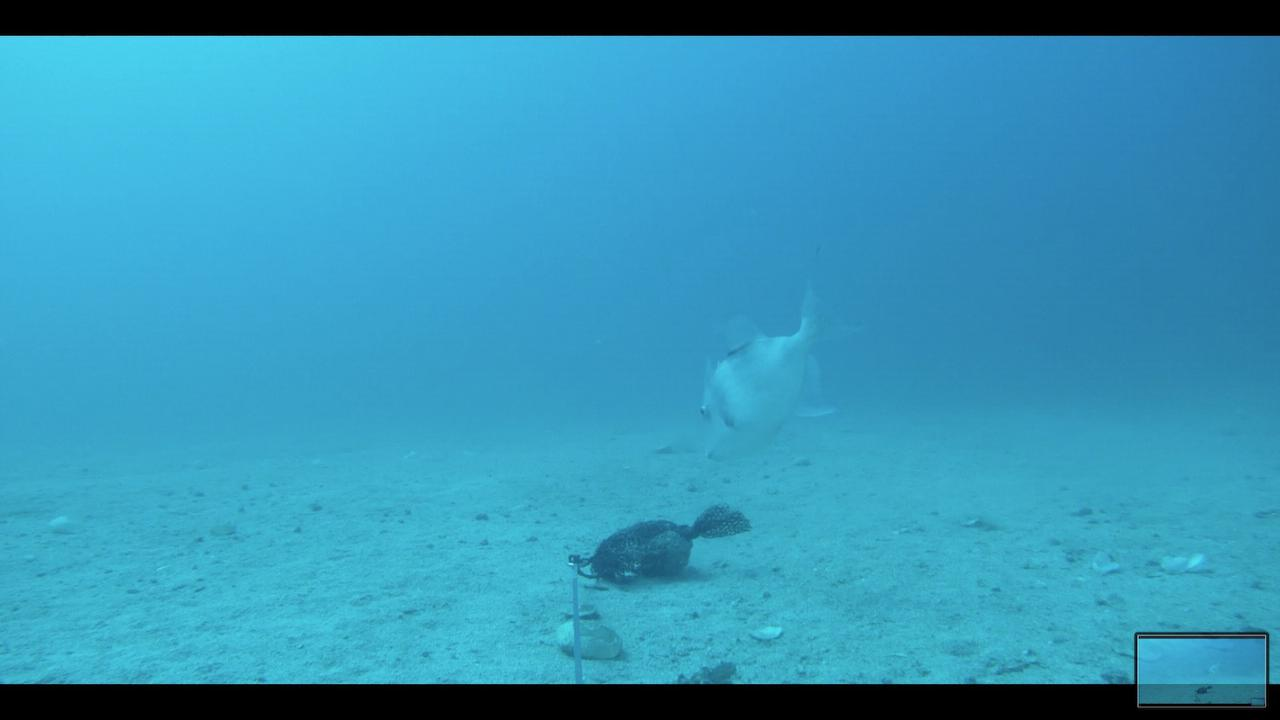balistes: (693, 246, 872, 463)
